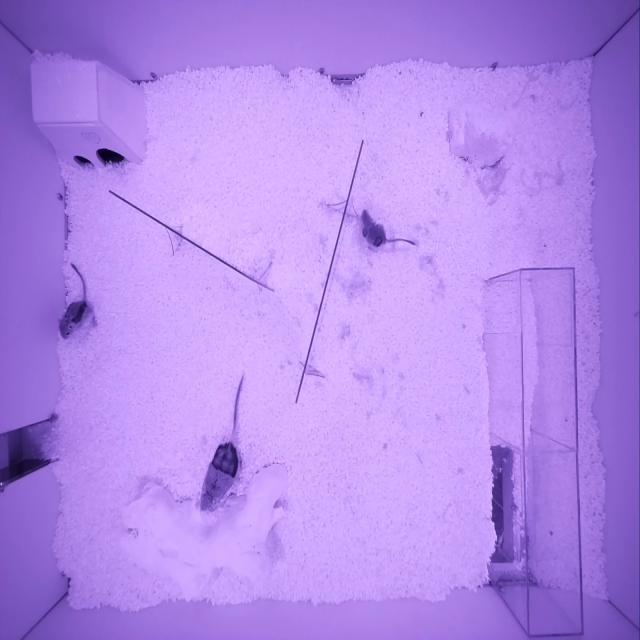adult_back: (199, 441, 239, 512)
pup_spotted: (361, 209, 386, 248)
pup_v_stripe: (58, 300, 93, 340)
